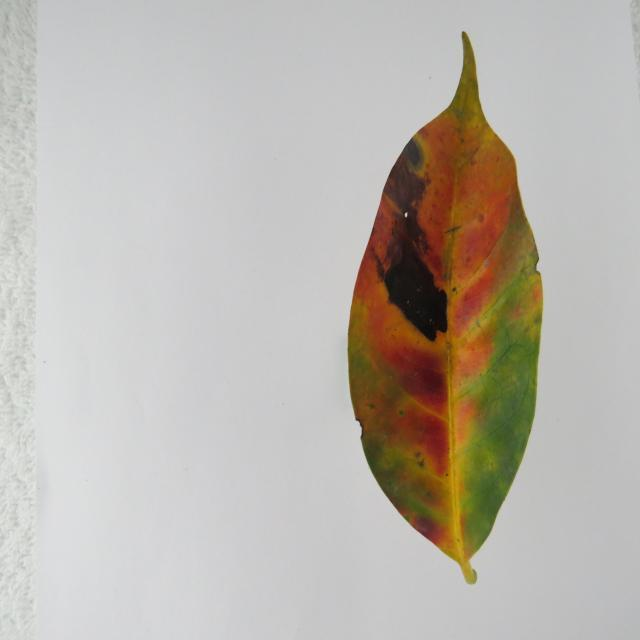DeficienciaNutricional-Fosforo: (349, 33, 542, 583)
